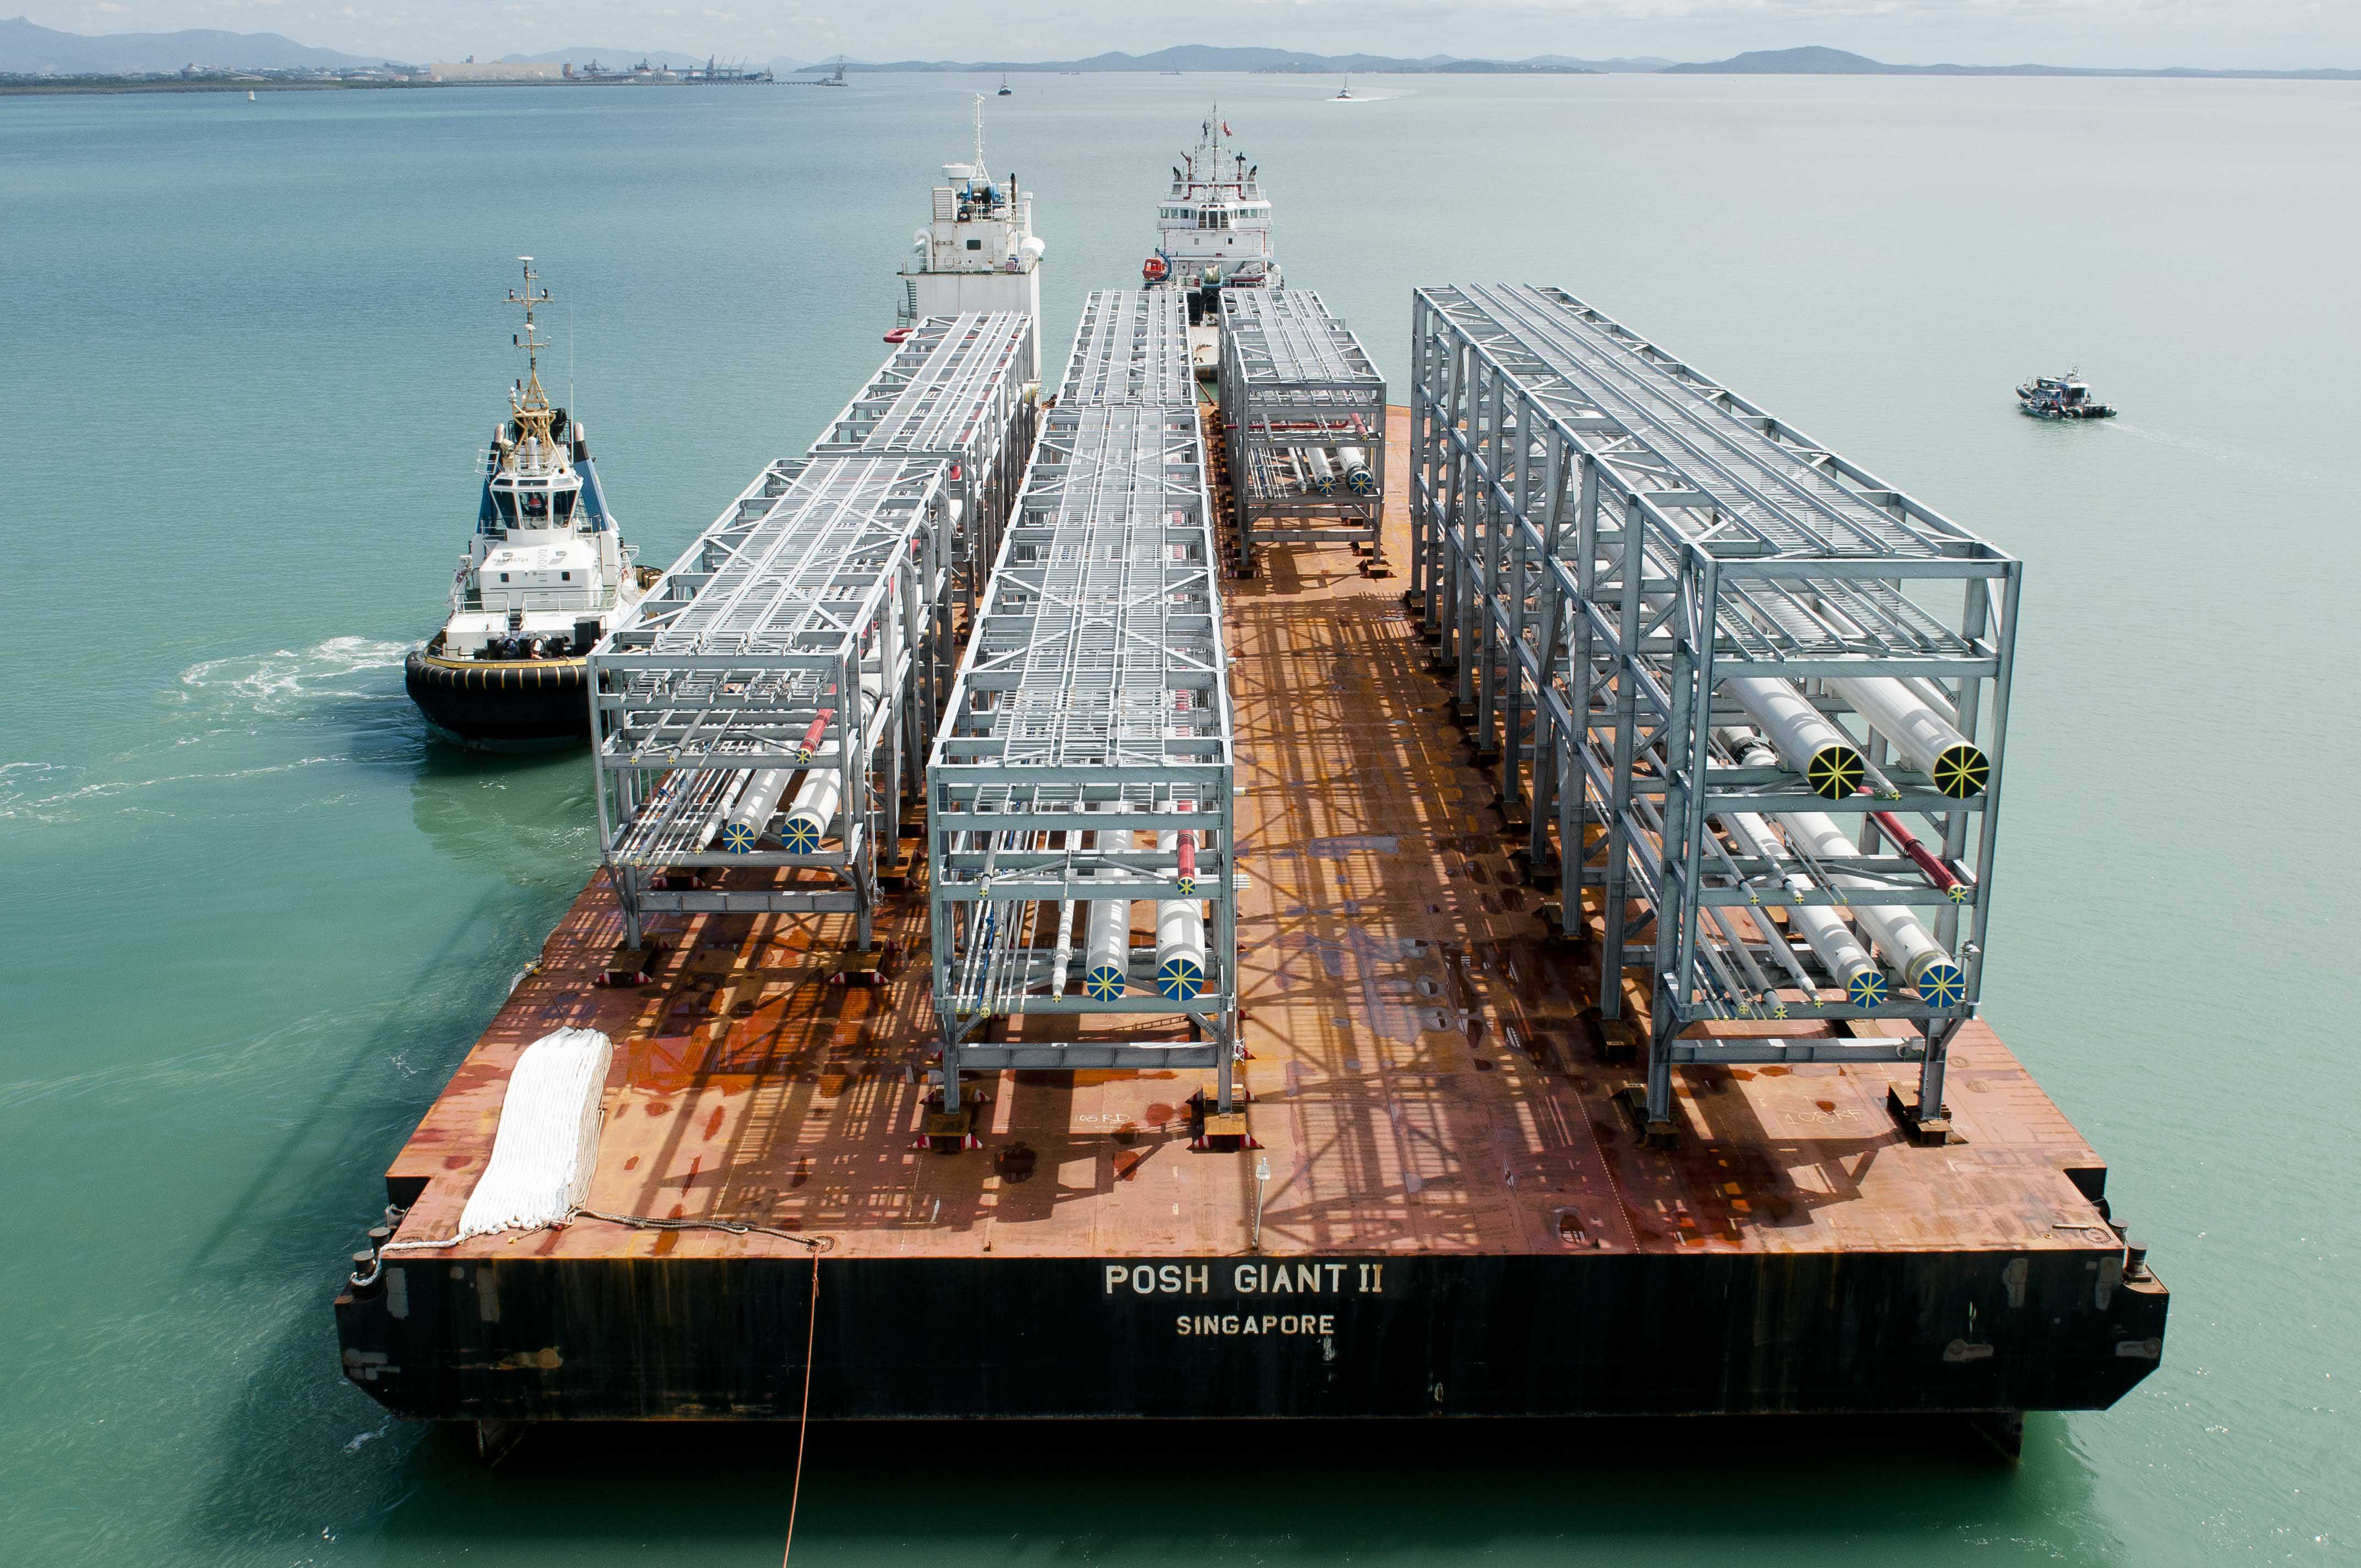otherboat: (392, 322, 677, 758), (2018, 360, 2125, 429)
